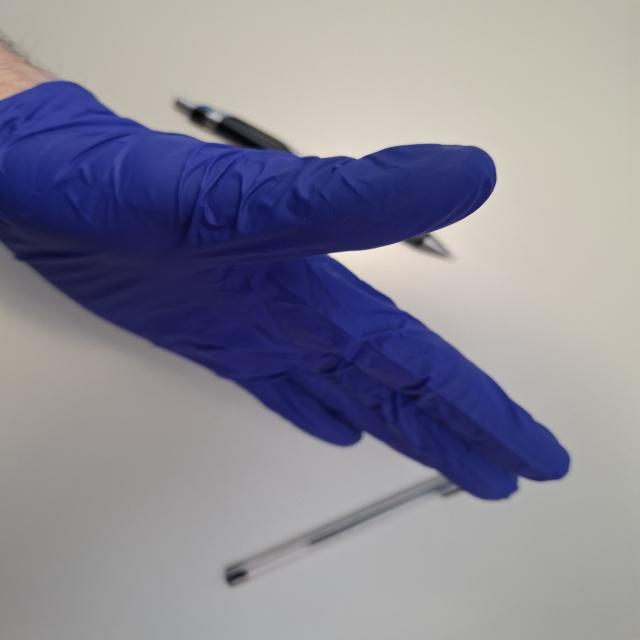glove_on: (0, 76, 577, 504)
